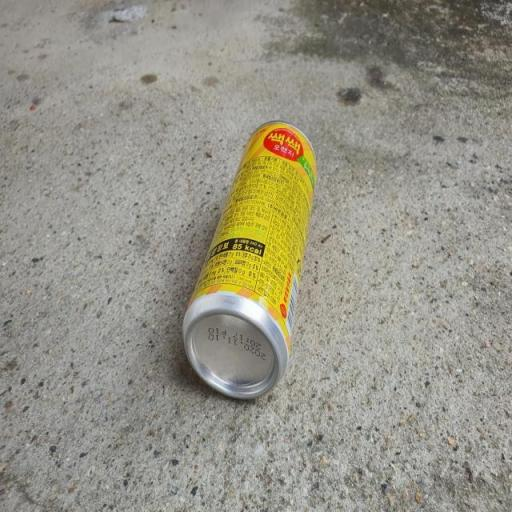metal: (149, 76, 410, 470)
